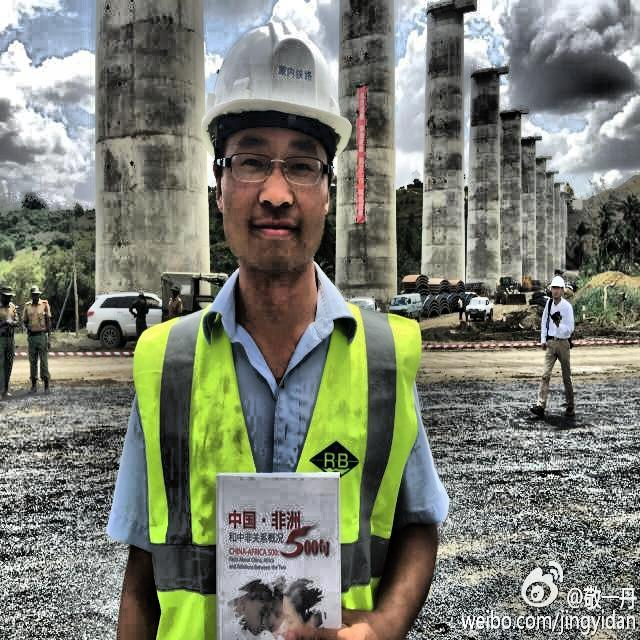person: (99, 26, 449, 640)
